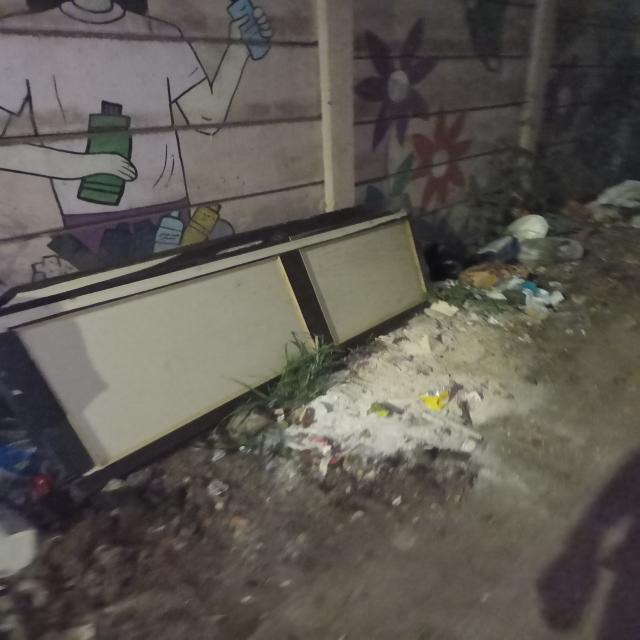garbage: (3, 192, 640, 523)
